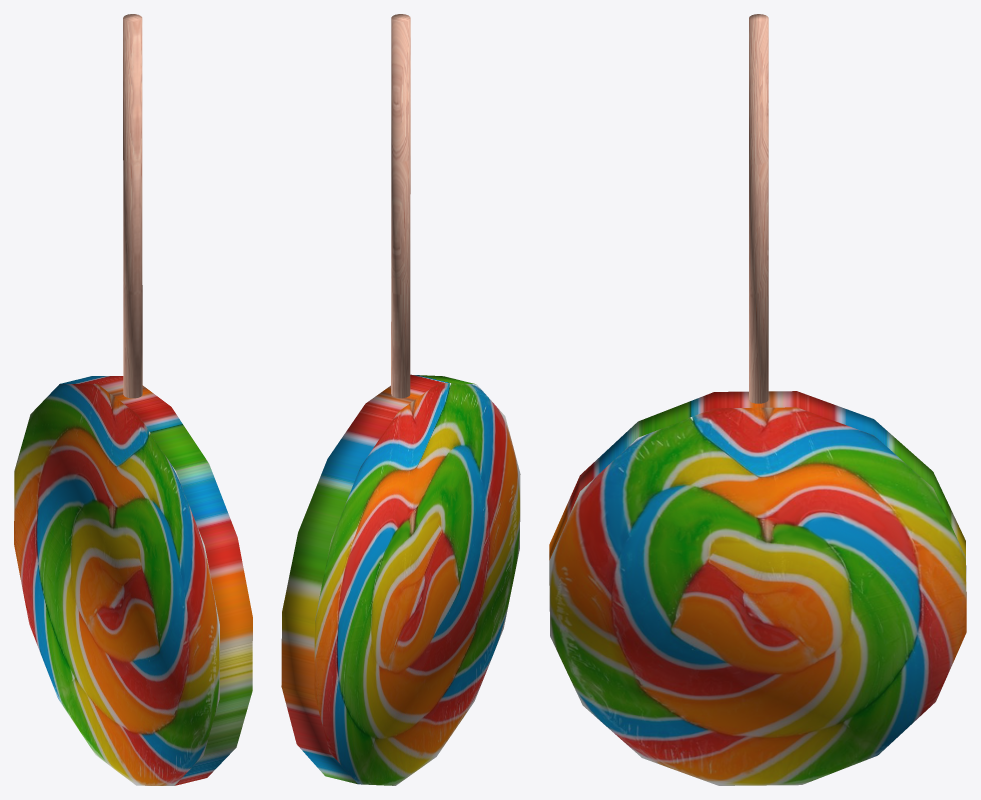
File: BigLollipop.fbx
3 renders of one model, left to right at view 1: azimuth 30°, elevation 25°; view 2: azimuth 150°, elevation 25°; view 3: azimuth 270°, elevation 25°, orthographic.
Visible parts, largest first — view 1: Cylinder.001; view 2: Cylinder.001; view 3: Cylinder.001.
Boxes of the visible parts, x1,y1,x2,y2 form: Cylinder.001: (14, 14, 252, 785); Cylinder.001: (281, 14, 520, 785); Cylinder.001: (549, 14, 966, 785).
Size of the model in its own units: 0.0168 by 0.3622 by 0.1805.
